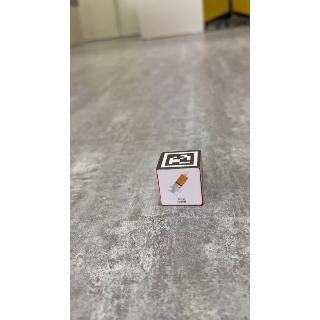Syringe: (157, 167, 205, 207)
